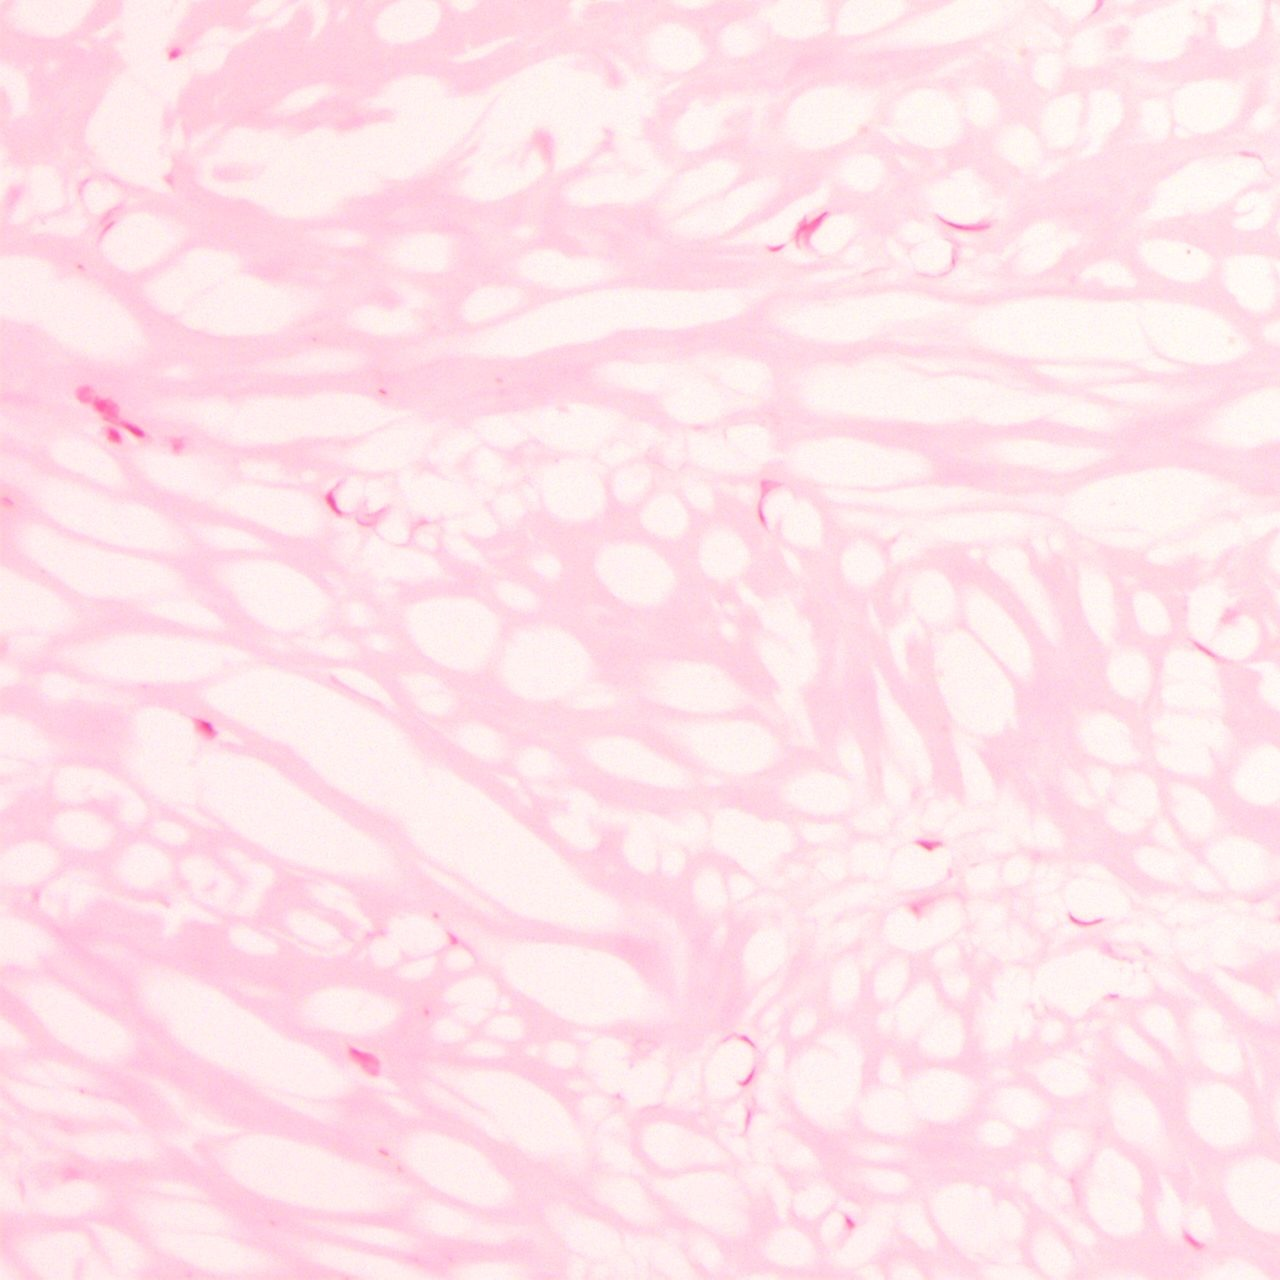dust: (378, 388, 390, 396)
nucleus-AC: (786, 200, 835, 252), (73, 382, 121, 423), (345, 1039, 387, 1080), (933, 218, 993, 232), (119, 415, 148, 443), (913, 830, 944, 856), (103, 424, 129, 450), (837, 1209, 861, 1235), (192, 714, 217, 738), (323, 492, 342, 517), (168, 48, 180, 60)
